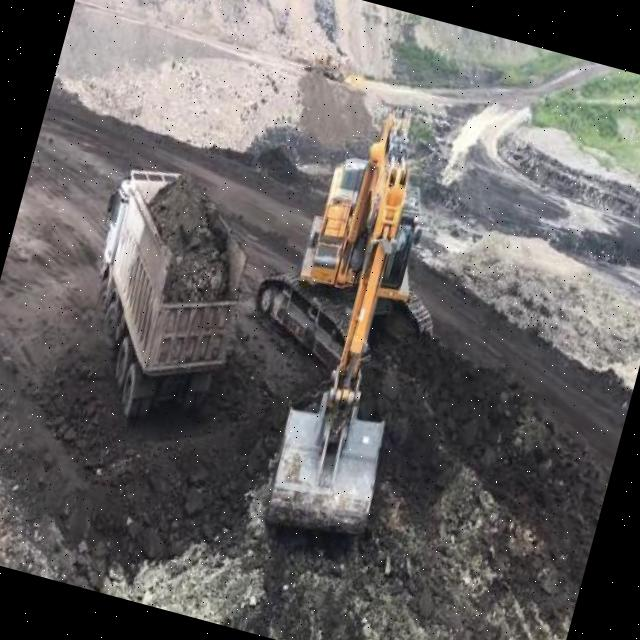Dump Truck: (47, 147, 276, 450)
Excavator: (196, 78, 496, 562)
